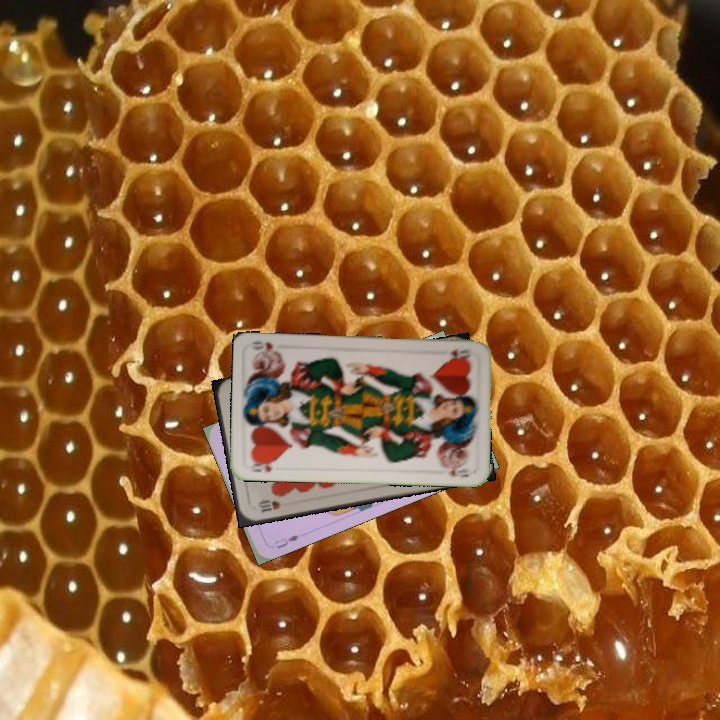EU: (271, 531, 301, 551)
H10: (254, 497, 283, 515)
HO: (247, 456, 280, 475), (445, 345, 473, 361)
